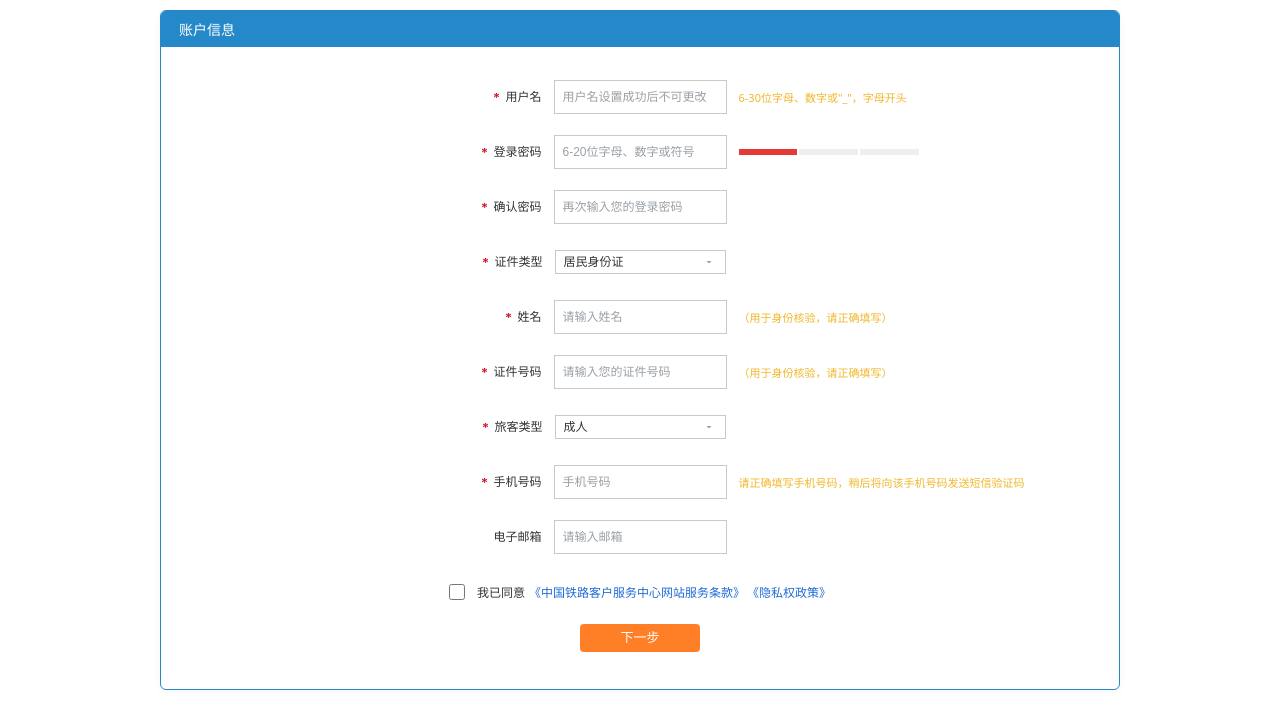
Scenario: UI-RegisterForm Scenarios › Given the phone number is empty When user clicks next Then it shows a required field error and modal
Click the checkbox named "我已同意《中国铁路客户服务中心网站服务条款》《隐私权政策》" at (457, 592), box [449,584,465,600]
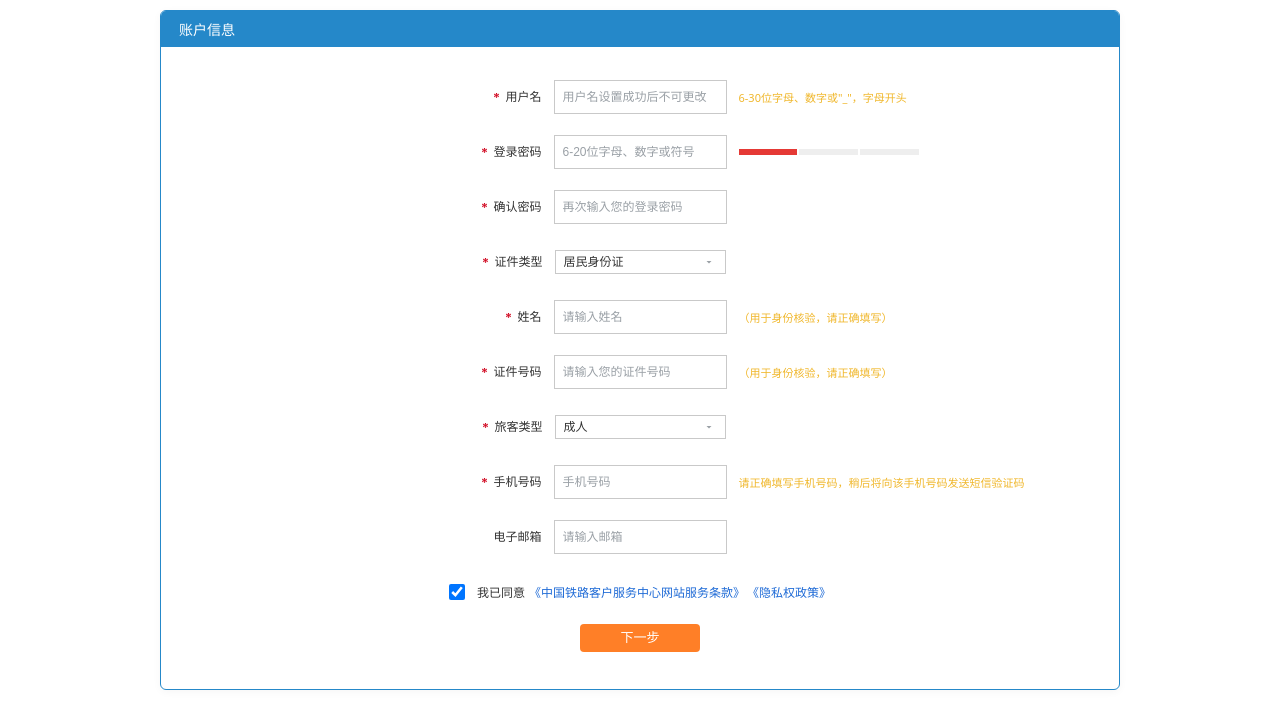
Click the button "下一步" at (640, 638), box [580,624,700,652]
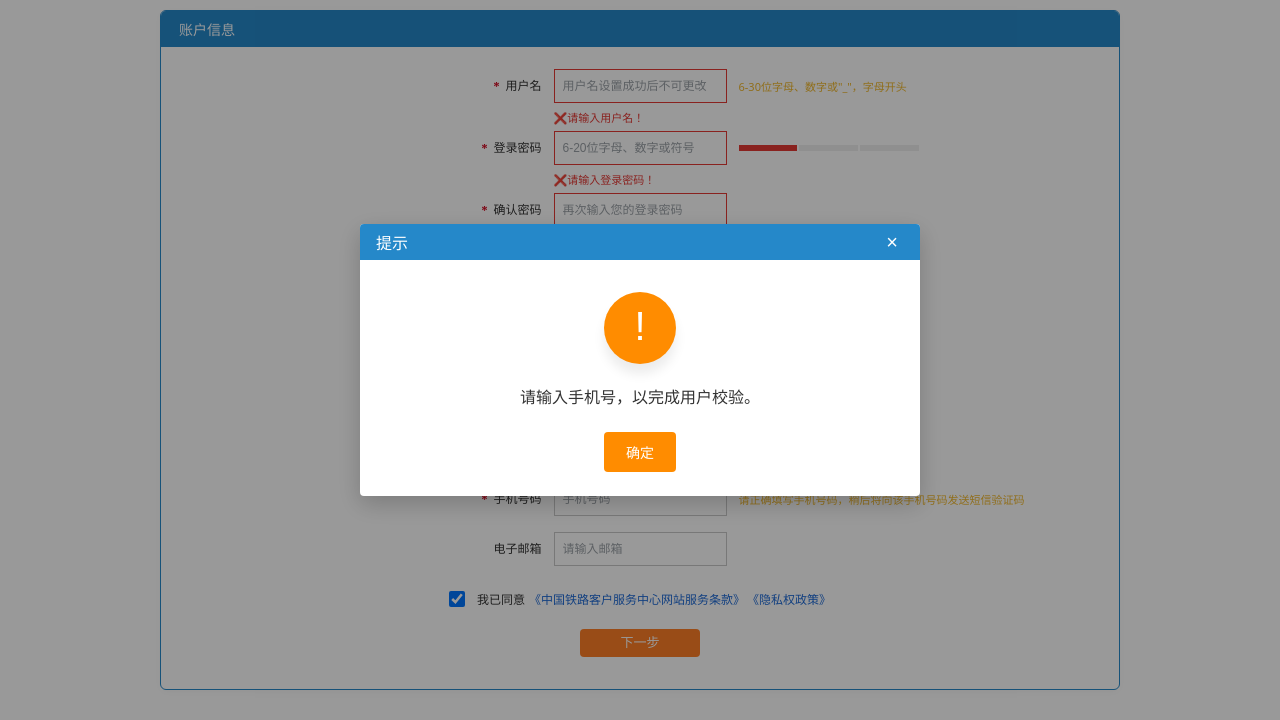
Expected: the dialog is shown, [360,224,920,496]
Expected: the text "请输入手机号，以完成用户校验。" is shown, [520,384,760,408]
